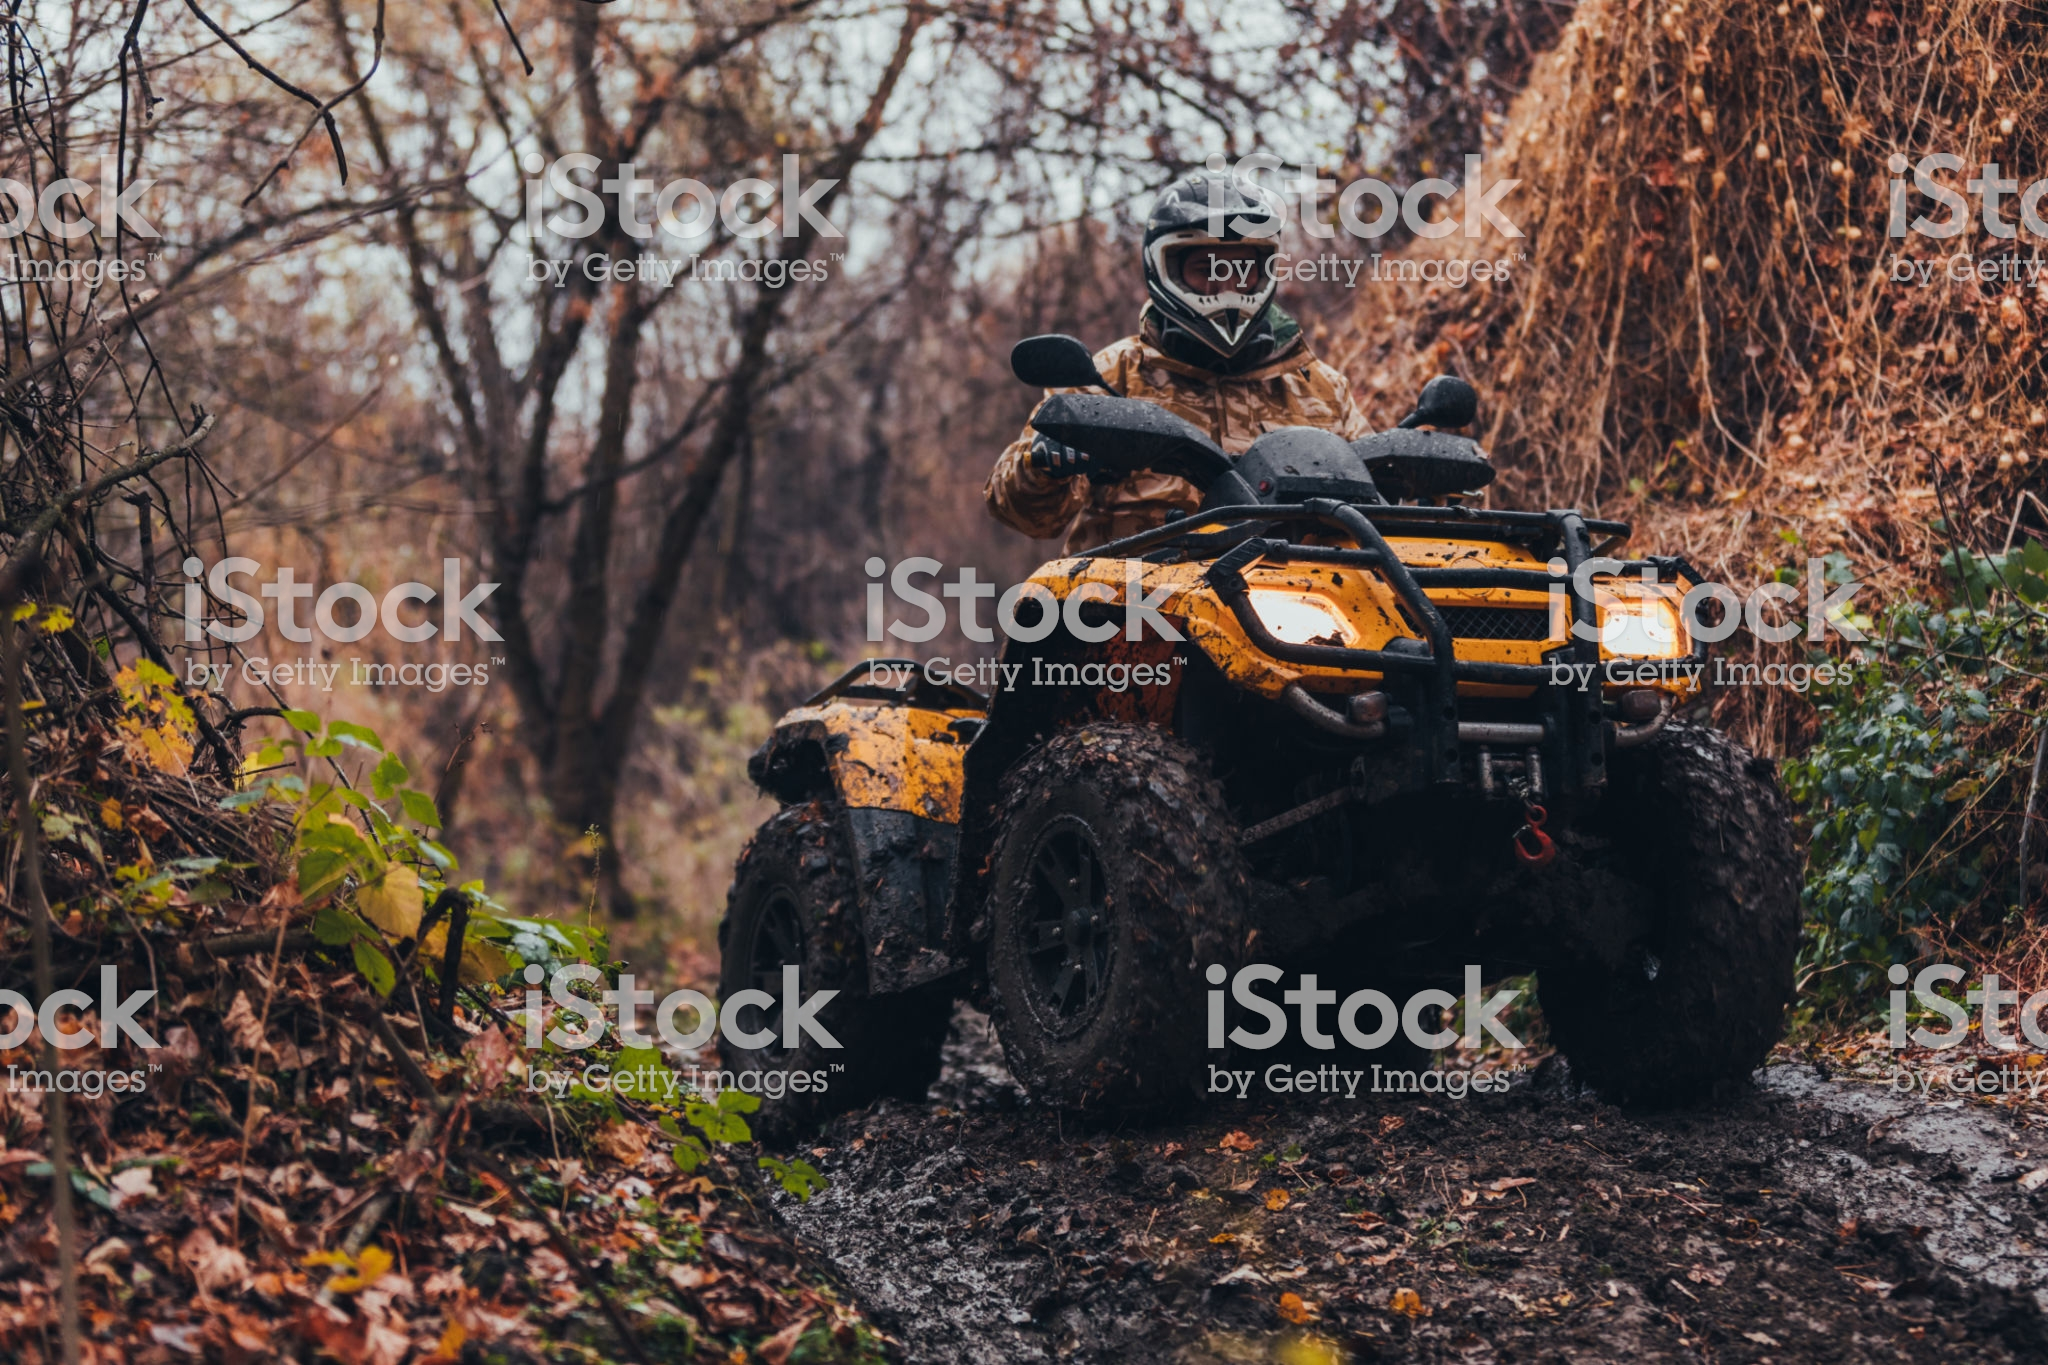helmet: (1140, 174, 1303, 376)
